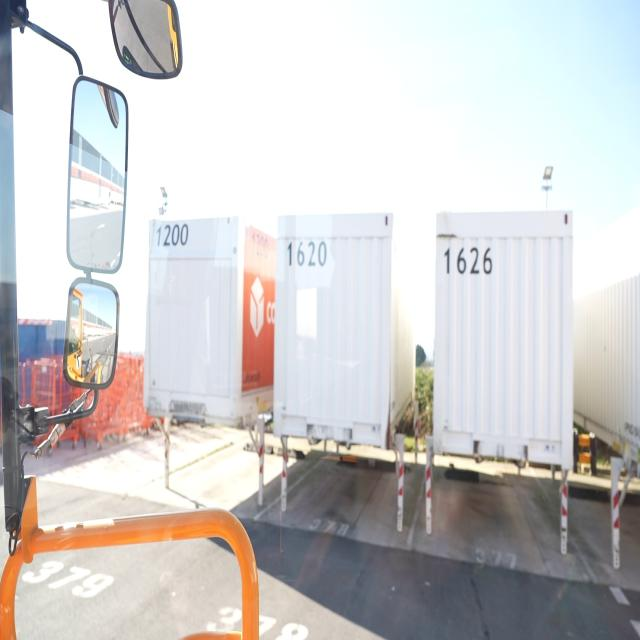Code: (440, 241, 494, 283), (286, 237, 328, 269), (154, 221, 190, 250)
